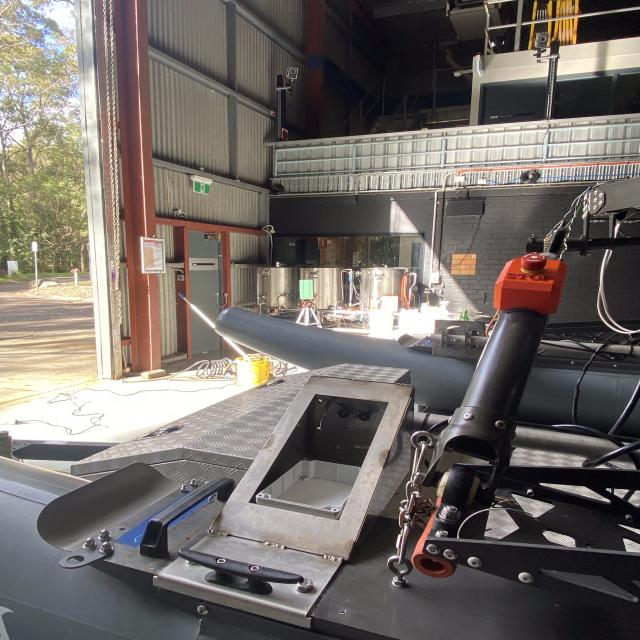matrix: (298, 278, 316, 300)
